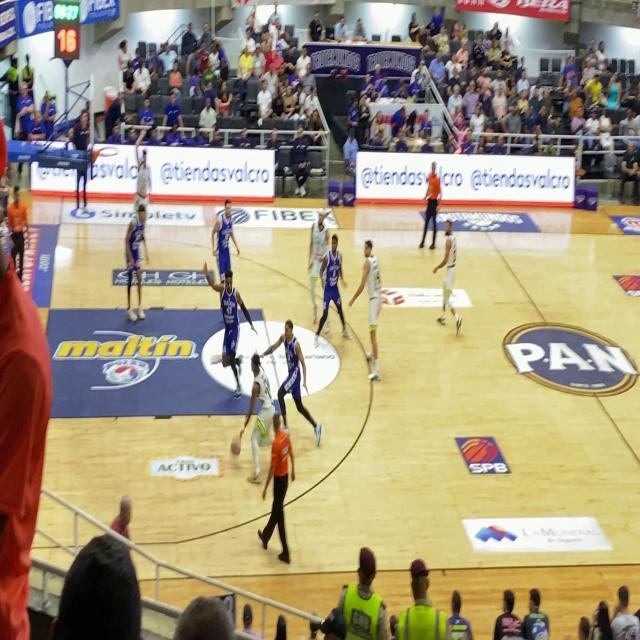Ball: (229, 434, 245, 463)
referee: (262, 408, 300, 584), (421, 159, 445, 265), (6, 183, 32, 279)
team1: (352, 232, 392, 391), (239, 341, 274, 481), (431, 220, 466, 348), (304, 193, 329, 292), (134, 136, 154, 208)
team2: (112, 182, 154, 344), (272, 311, 322, 436), (206, 254, 247, 398), (322, 230, 351, 366), (205, 194, 235, 269)
ubasket: (97, 143, 120, 163)
